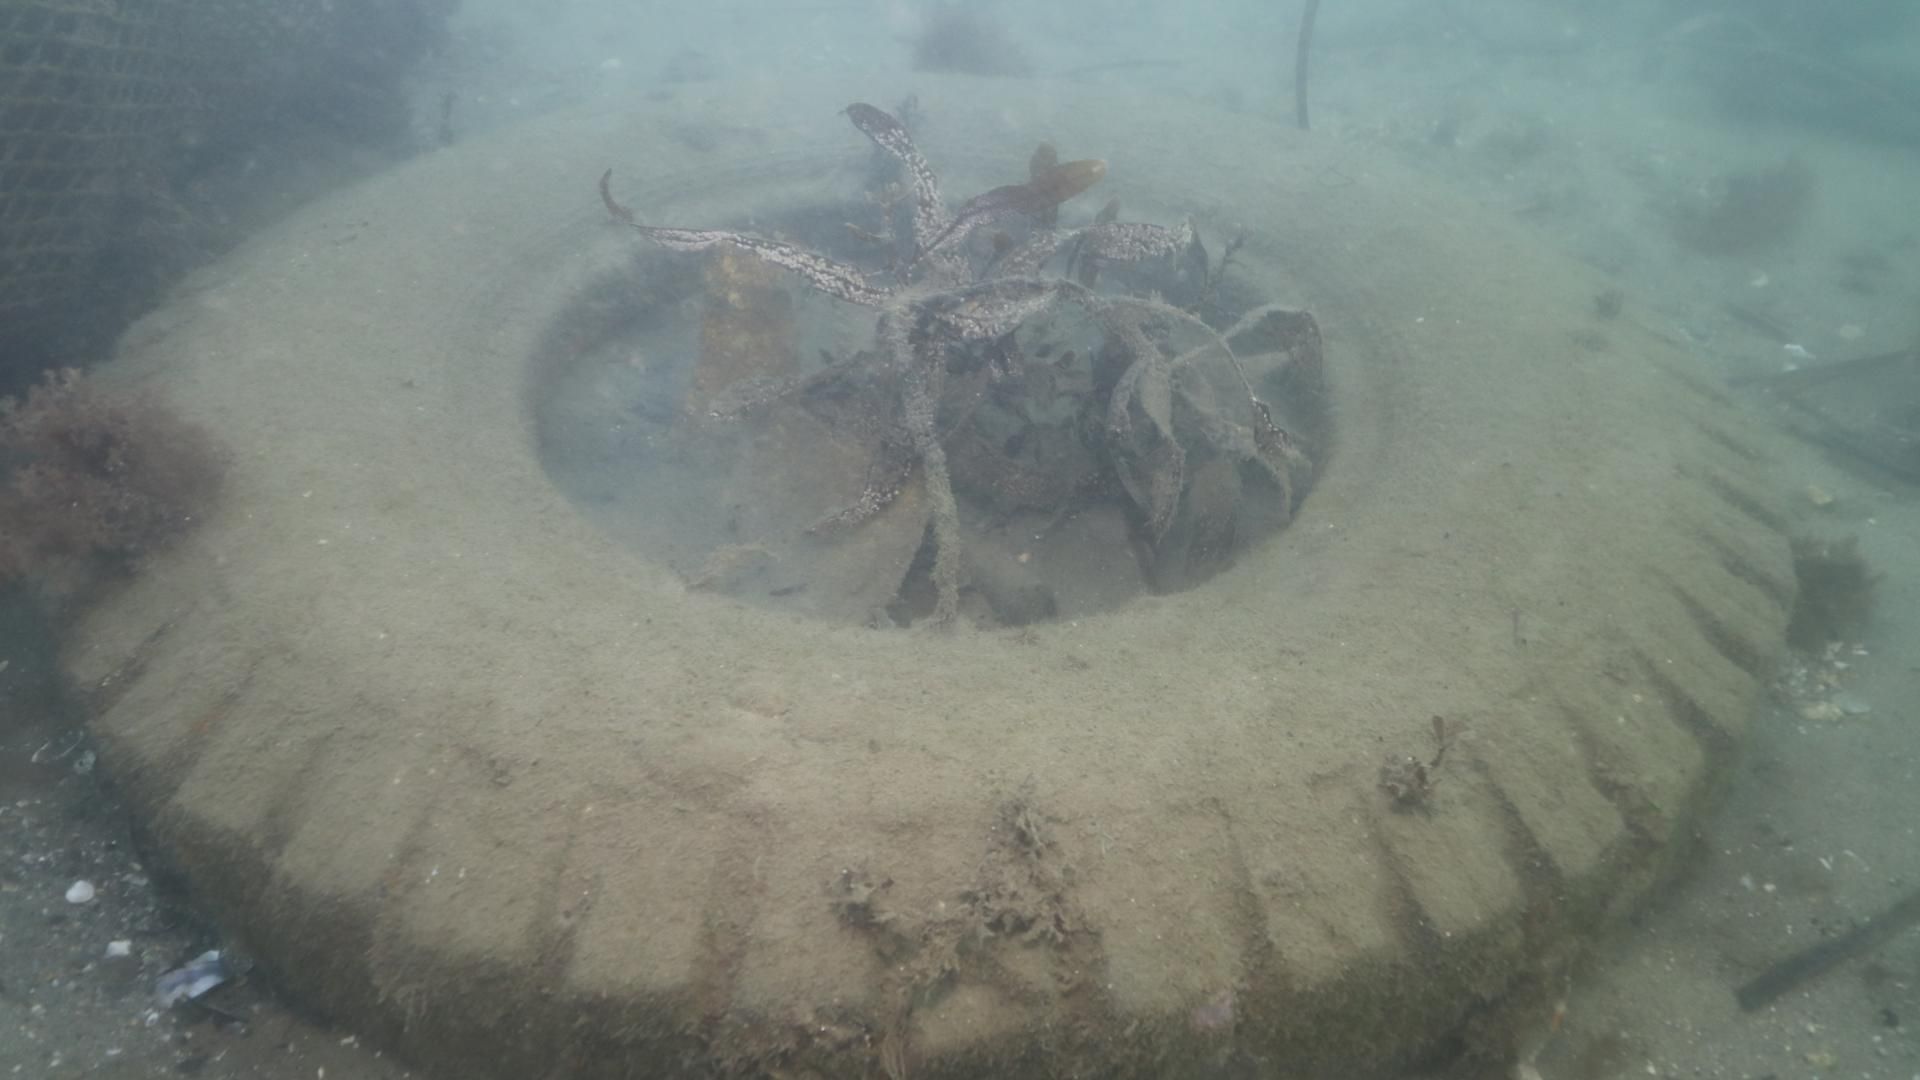tire: (29, 70, 1788, 1079)
